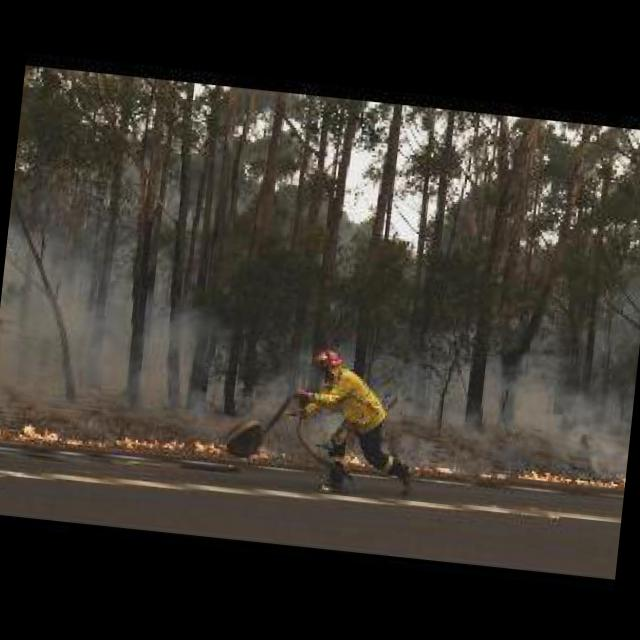fire: (15, 419, 86, 443), (120, 430, 186, 449), (415, 458, 458, 474), (194, 436, 223, 450), (346, 453, 376, 465), (480, 469, 506, 478)
